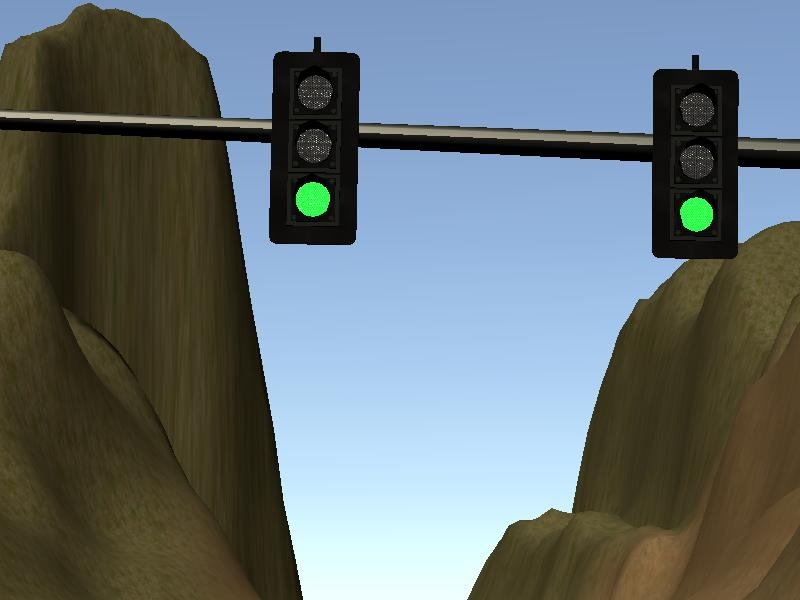GREEN: (651, 67, 741, 260), (269, 50, 356, 242)
